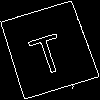T: (23, 24, 69, 77)
